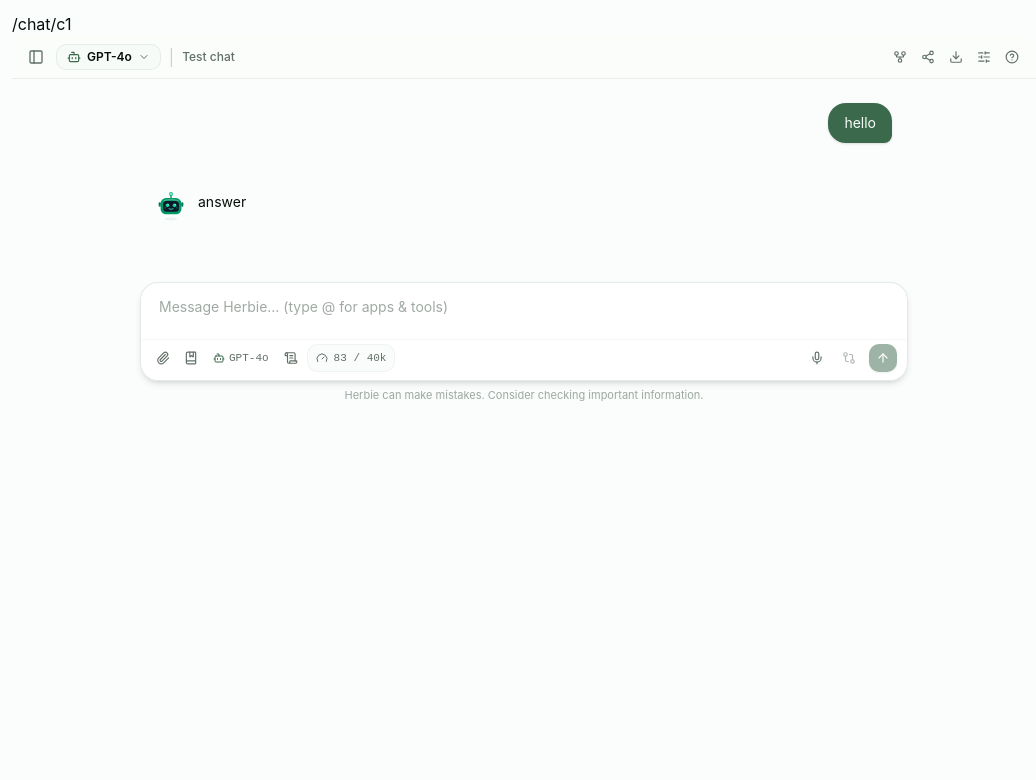
Test: ChatPage conversation actions › forks the conversation and navigates to the new conversation
Expected: the text "answer" is shown, [198, 193, 246, 210]
Click the button named "Fork conversation" at (900, 57), box [888, 45, 912, 69]
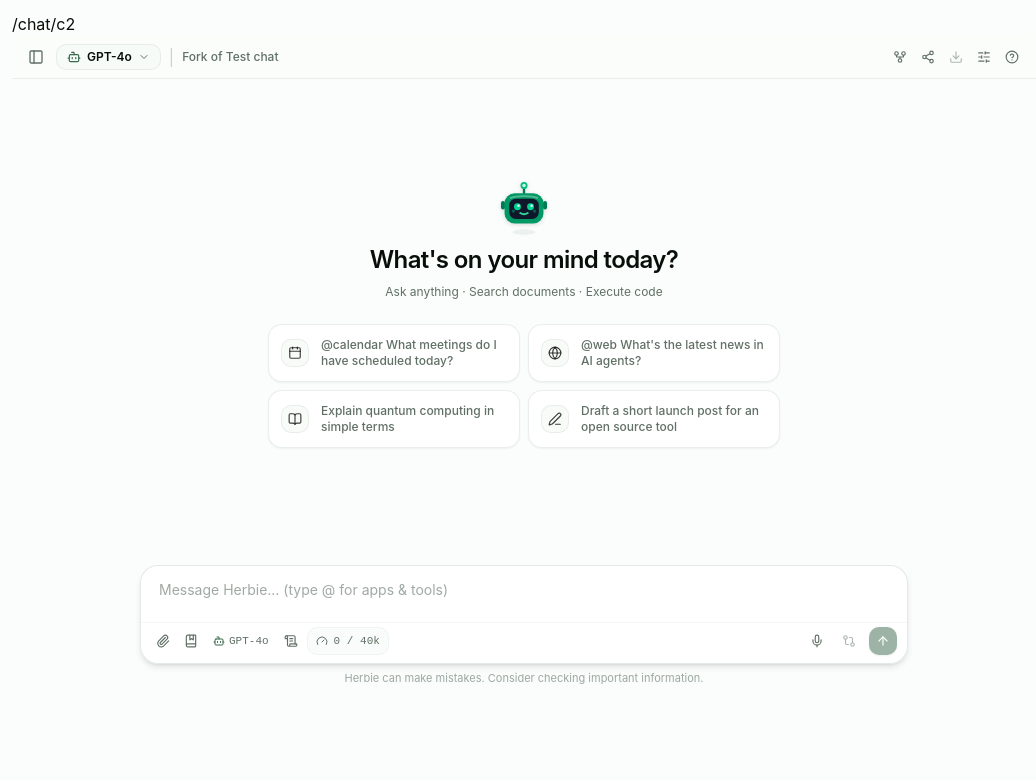
Result: the text with test id "location" reads "/chat/c2" at [12, 14, 75, 34]
